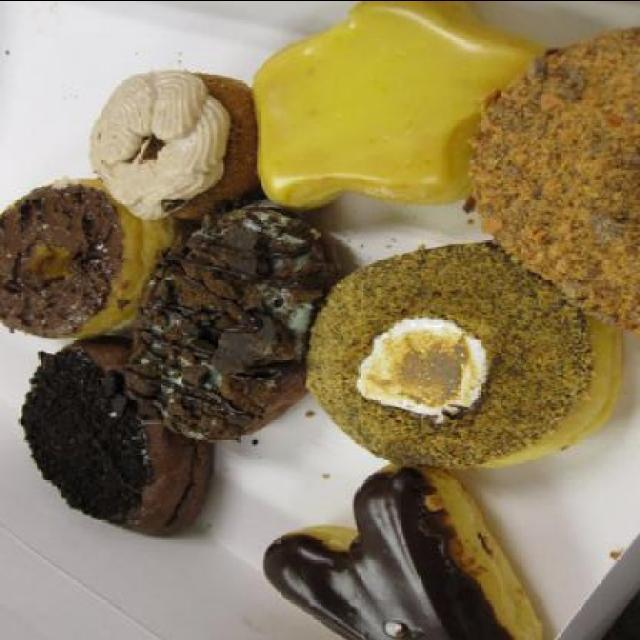Donuts: (19, 1, 638, 624)
